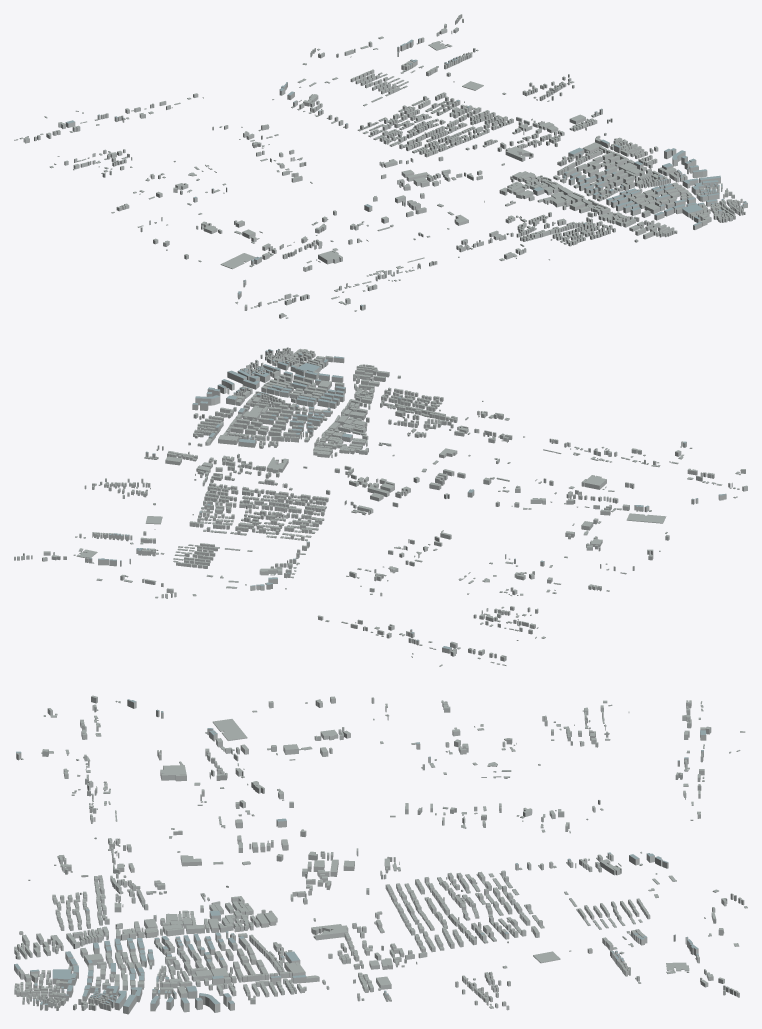
3 renders of one model, top to bottom at view 1: azimuth 30°, elevation 25°; view 2: azimuth 150°, elevation 25°; view 3: azimuth 270°, elevation 25°, orthographic. The views are drawn at different scales.
Parts seen in each view (by area): view 1: 上海全域建筑分块 · mapped building neighborhood; view 2: 上海全域建筑分块 · mapped building neighborhood; view 3: 上海全域建筑分块 · mapped building neighborhood.
Boxes of the visible parts, x1=… form: 上海全域建筑分块 · mapped building neighborhood: x1=14, y1=14, x2=747, y2=318; 上海全域建筑分块 · mapped building neighborhood: x1=14, y1=347, x2=747, y2=666; 上海全域建筑分块 · mapped building neighborhood: x1=14, y1=695, x2=747, y2=1014.
Bounding box in the file's own units: 2131 × 29.95 × 2108.
